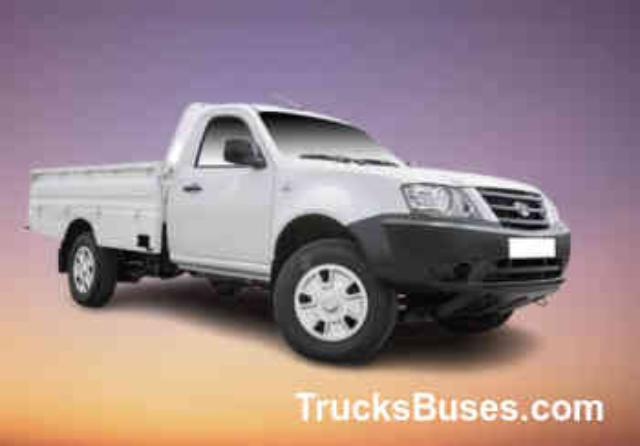pickup-truck: (27, 101, 571, 365)
